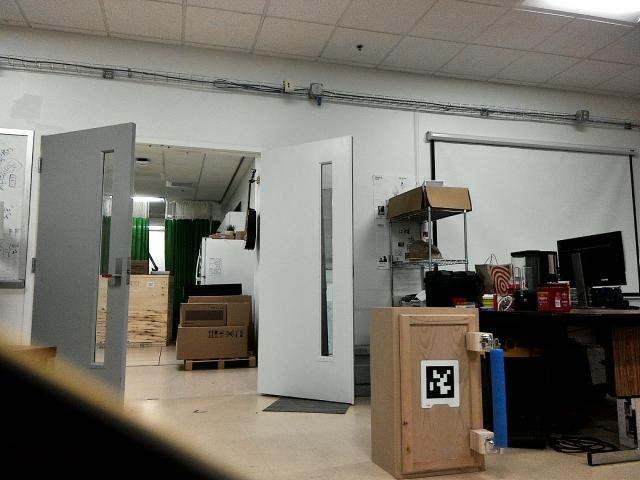noodle_handle: (484, 343, 510, 452)
